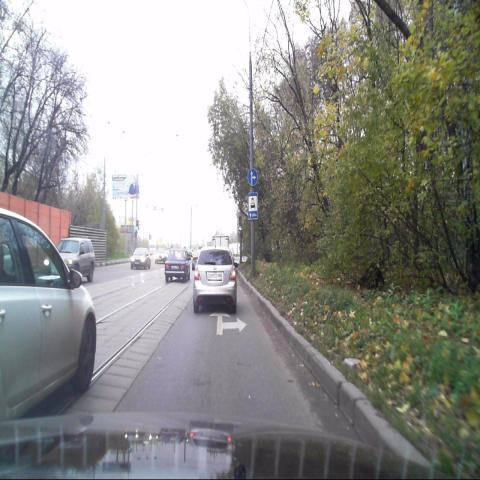7_5: (248, 192, 257, 219)
